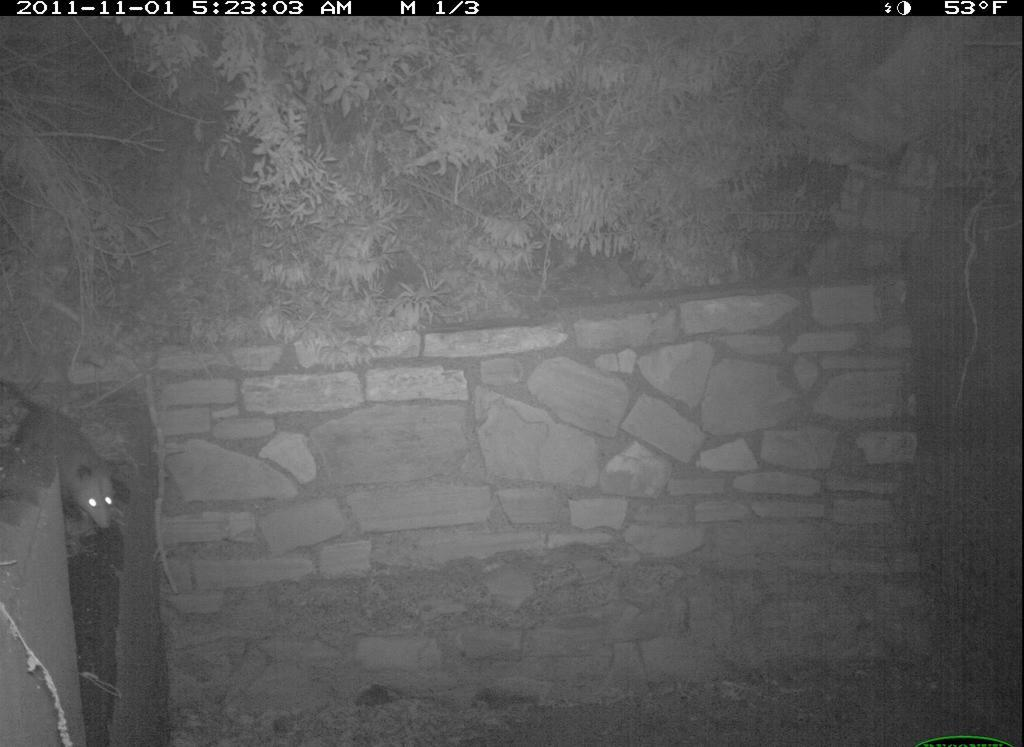opossum: (3, 373, 130, 537)
